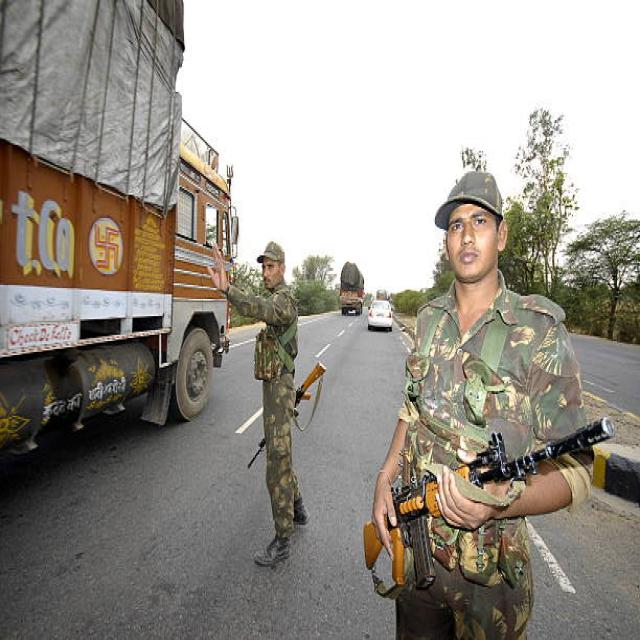LMV: (367, 301, 392, 332)
soldier: (364, 173, 615, 638), (205, 242, 327, 566)
